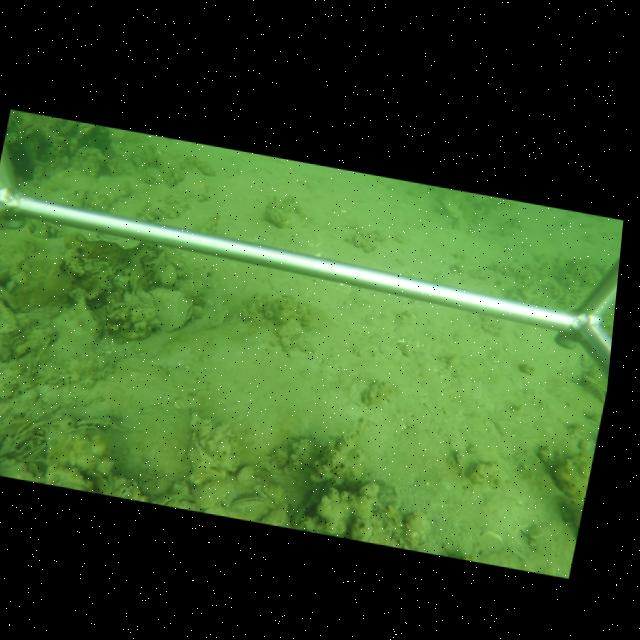Oyster-Closed: (149, 287, 194, 333), (70, 297, 105, 344), (193, 480, 233, 510), (229, 493, 273, 518), (154, 495, 201, 510)
Oyster-Indeterminate: (440, 200, 465, 217)
